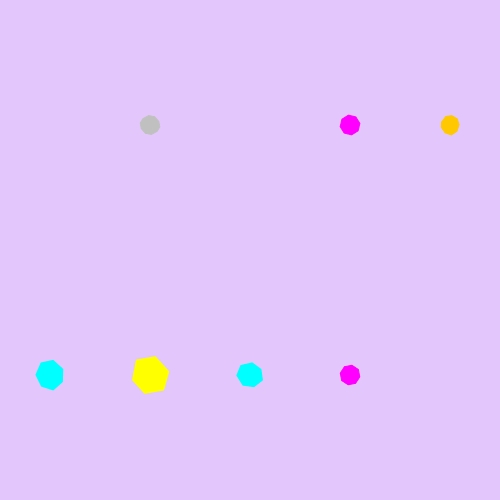decagon: (135, 111, 165, 139)
heptagon: (31, 357, 69, 393), (233, 359, 268, 392)
hexagon: (126, 355, 175, 396)
nonagon: (436, 111, 465, 139)
octagon: (335, 110, 365, 140), (335, 360, 365, 390)
